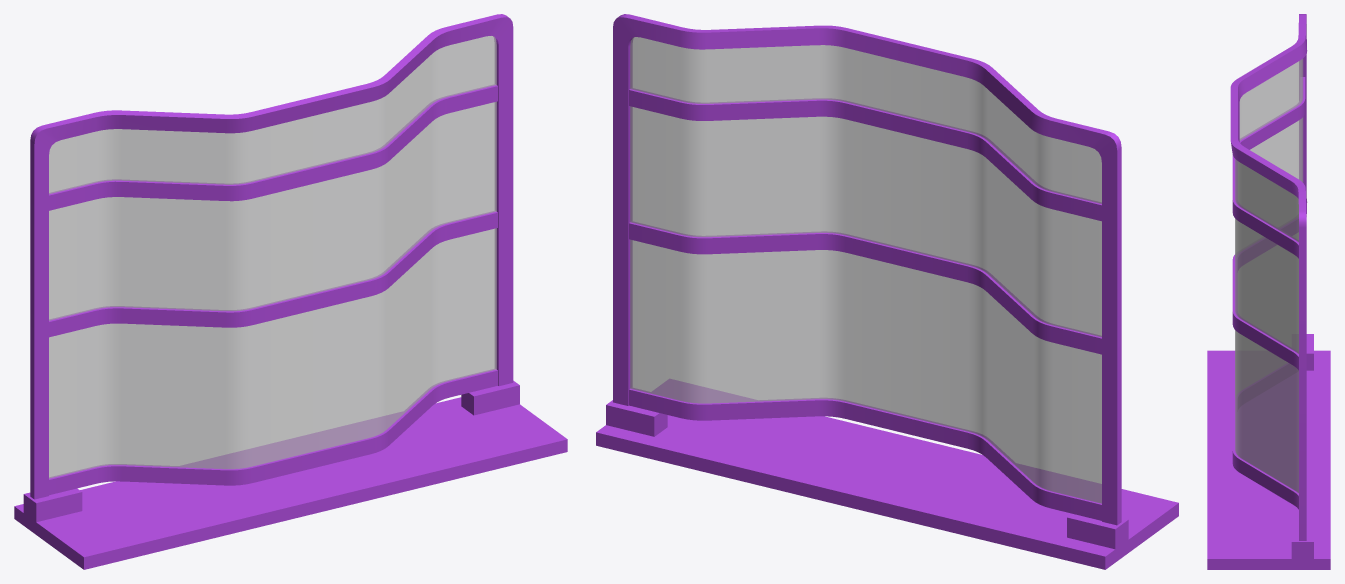
The model's file is Rallings_A_4x1m.FBX.
3 renders of one model, left to right at view 1: azimuth 30°, elevation 25°; view 2: azimuth 150°, elevation 25°; view 3: azimuth 270°, elevation 25°, orthographic. The views are drawn at different scales.
Visible parts, largest first — view 1: Rallings_A_4x1m; view 2: Rallings_A_4x1m; view 3: Rallings_A_4x1m.
Boxes of the visible parts, left/top/right/bottom form: Rallings_A_4x1m: left=14, top=14, right=567, bottom=569; Rallings_A_4x1m: left=596, top=14, right=1178, bottom=569; Rallings_A_4x1m: left=1207, top=14, right=1330, bottom=569.
Size of the model in its own units: 400 by 316 by 100.
